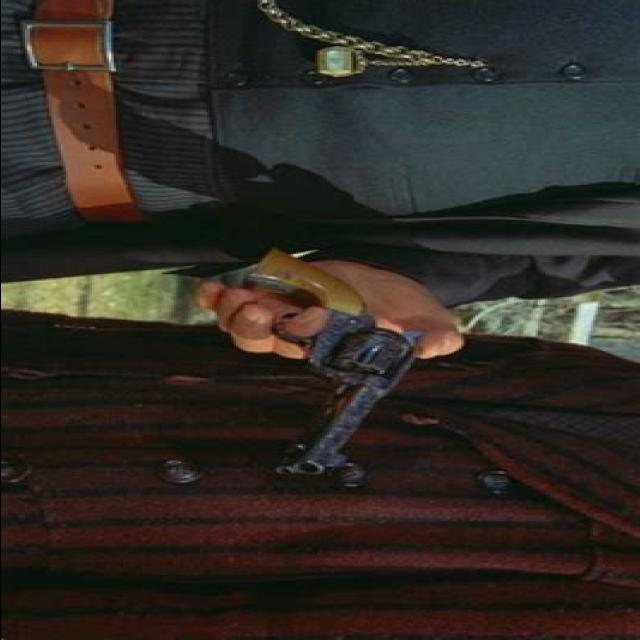weapons: (218, 227, 445, 483)
